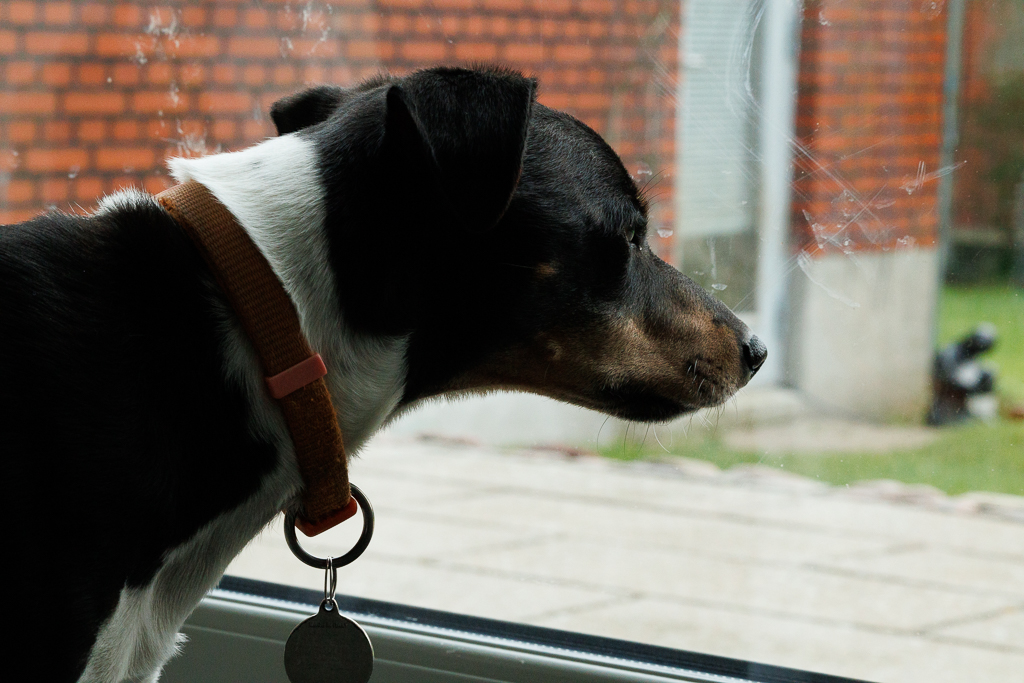Dog: (0, 49, 794, 683)
Humanoid: (918, 318, 1017, 444)
